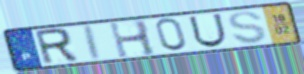0: (154, 17, 190, 53)
H: (107, 19, 159, 60)
I: (83, 23, 104, 63)
R: (32, 27, 81, 67)
S: (227, 10, 269, 45)
U: (187, 12, 229, 49)
